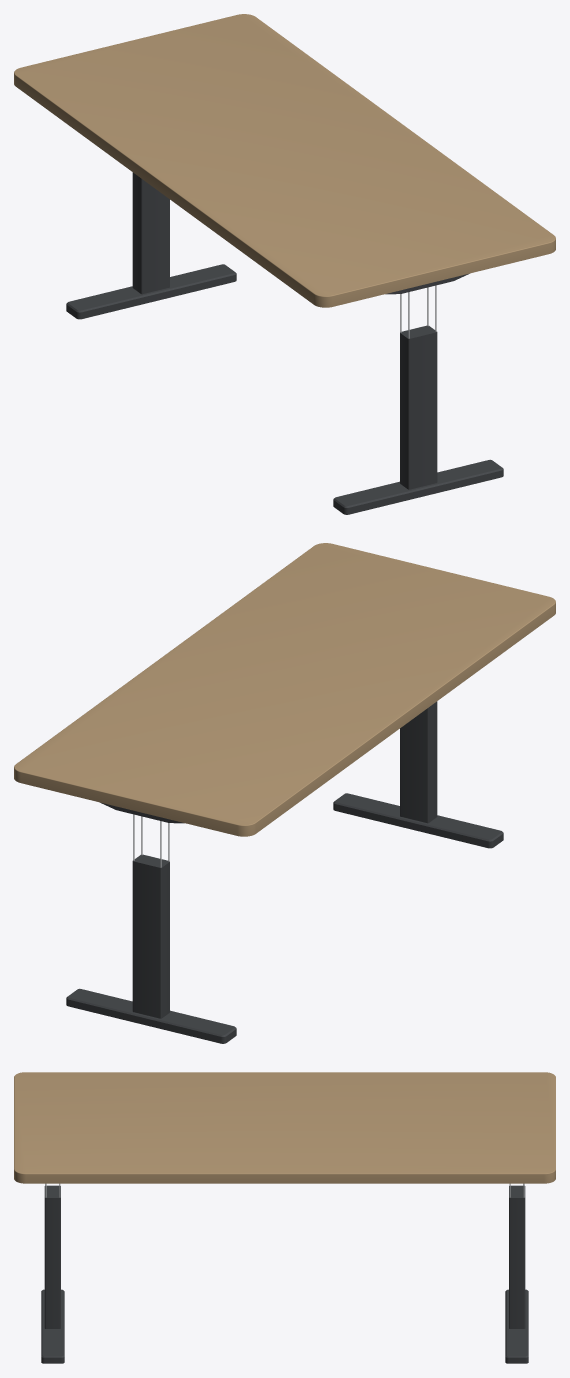
The model's file is simready-desk_a01.glb.
3 views of the same model, one above another, from view 1: azimuth 30°, elevation 25°; view 2: azimuth 150°, elevation 25°; view 3: azimuth 270°, elevation 25° (orthographic). The views are drawn at different scales.
Parts seen in each view (by area): view 1: top, upright, upright.001, foot.001, foot; view 2: top, upright.001, upright, foot, foot.001; view 3: top, upright, upright.001, foot, foot.001.
Part boxes in pixels (box(x1,y1,x2,y2)): top: box(14, 14, 555, 307); upright: box(400, 325, 437, 489); upright.001: box(132, 172, 169, 294); foot.001: box(66, 264, 236, 319); foot: box(333, 459, 503, 514); top: box(14, 543, 555, 836); upright.001: box(132, 854, 169, 1018); upright: box(400, 701, 437, 823); foot: box(333, 793, 503, 848); foot.001: box(66, 988, 236, 1043); top: box(14, 1072, 555, 1183); upright: box(44, 1185, 60, 1328); upright.001: box(509, 1185, 525, 1328); foot: box(41, 1289, 64, 1363); foot.001: box(505, 1289, 528, 1363).
Bounding box in the file's own units: 0.8019 × 0.7601 × 1.8.
